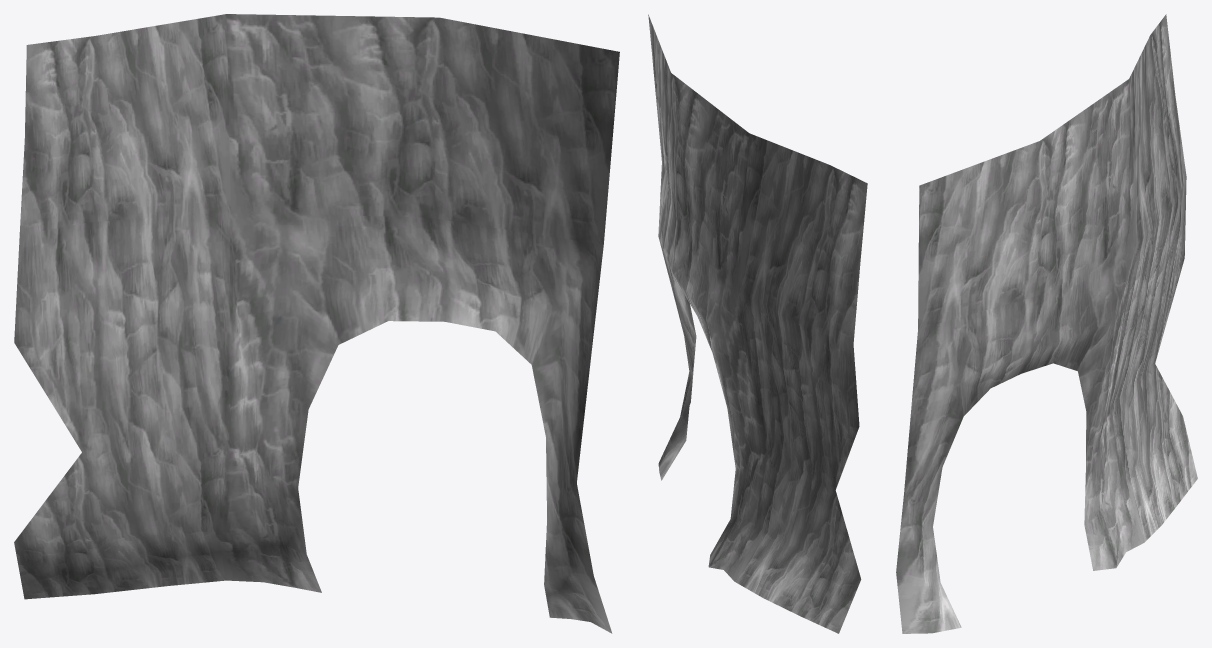
The model's file is SWORDLIGHT20_PS-AREA03_83.fbx.
The picture shows the model from 3 angles, left to right: view 1: azimuth 30°, elevation 25°; view 2: azimuth 150°, elevation 25°; view 3: azimuth 270°, elevation 25°; orthographic projection. The views are drawn at different scales.
Parts seen in each view (by area): view 1: SWORDLIGHT20_PS-AREA03_83; view 2: SWORDLIGHT20_PS-AREA03_83; view 3: SWORDLIGHT20_PS-AREA03_83.
Part boxes in pixels (x1,y1,x2,y2): SWORDLIGHT20_PS-AREA03_83: (14, 14, 619, 633); SWORDLIGHT20_PS-AREA03_83: (648, 14, 867, 633); SWORDLIGHT20_PS-AREA03_83: (896, 14, 1197, 633).
Bounding box in the file's own units: 111955 × 141451 × 83091.
Materials: 1 (1 with a texture image).
